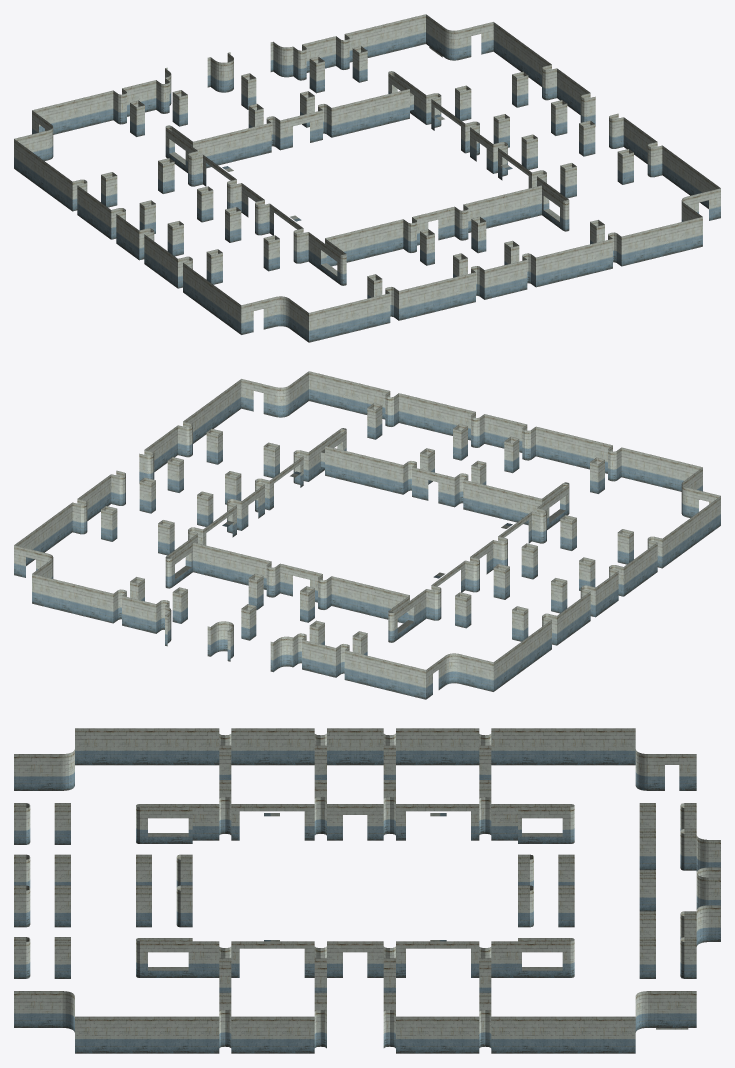
Rendered from walls.fbx.
3 renders of one model, top to bottom at view 1: azimuth 30°, elevation 25°; view 2: azimuth 150°, elevation 25°; view 3: azimuth 270°, elevation 25°, orthographic. The views are drawn at different scales.
Parts seen in each view (by area): view 1: walls.001; view 2: walls.001; view 3: walls.001.
Part boxes in pixels (<box>): walls.001: <box>14,14,720,342</box>; walls.001: <box>14,371,720,699</box>; walls.001: <box>14,728,720,1053</box>.
Size of the model in its own units: 68.54 by 4.28 by 70.99.
Materials: 2 (2 with a texture image).
